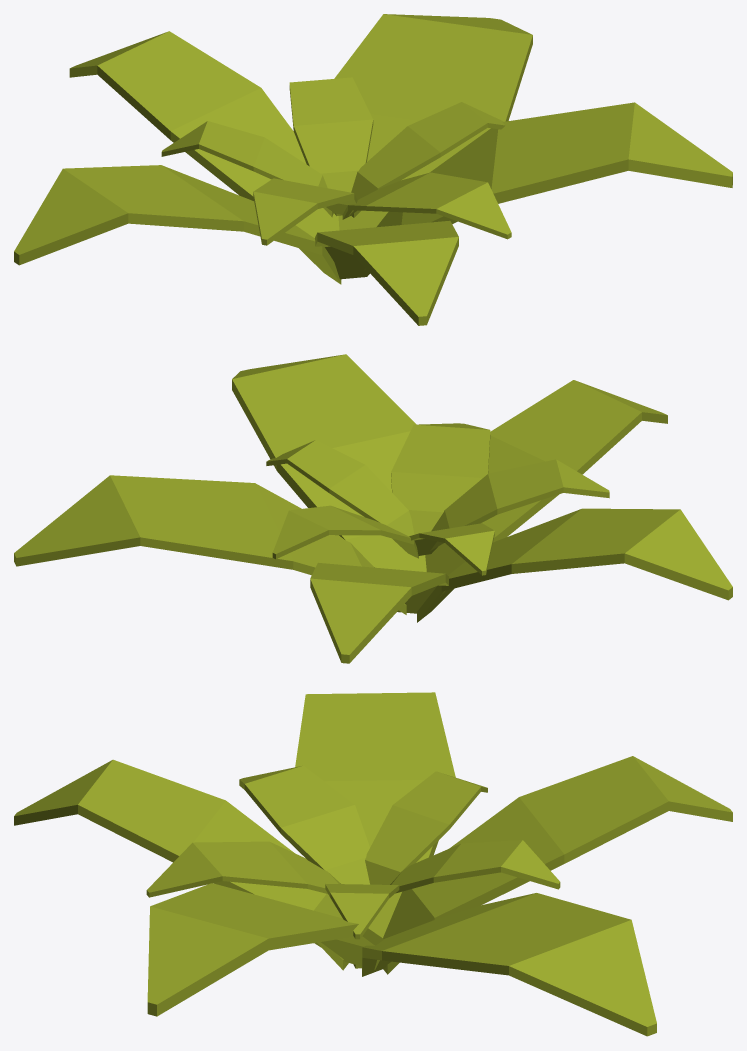
File: Leaf Plant 3.fbx
The picture shows the model from 3 angles, top to bottom: view 1: azimuth 30°, elevation 25°; view 2: azimuth 150°, elevation 25°; view 3: azimuth 270°, elevation 25°; orthographic projection. The views are drawn at different scales.
Parts seen in each view (by area): view 1: Fern 2; view 2: Fern 2; view 3: Fern 2.
Part boxes in pixels (<box>): Fern 2: <box>14,14,732,325</box>; Fern 2: <box>14,354,732,663</box>; Fern 2: <box>14,692,732,1036</box>.
Bounding box in the file's own units: 37.02 × 8.67 × 35.68.
